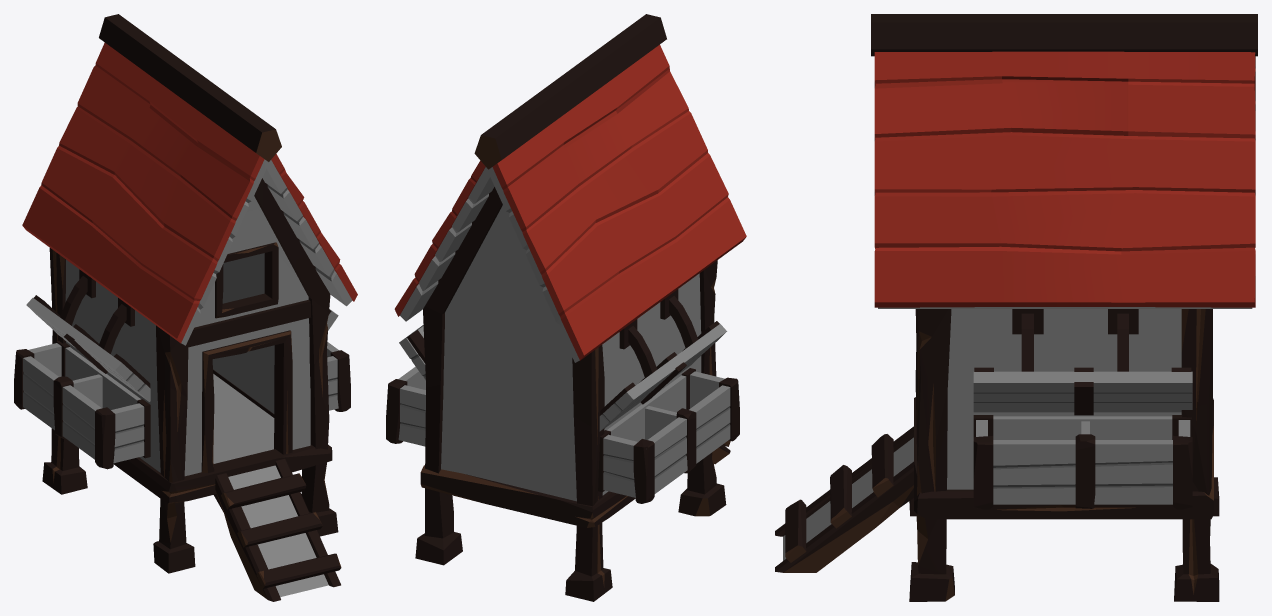
File: Henhouse.001.fbx
The picture shows the model from 3 angles, left to right: view 1: azimuth 30°, elevation 25°; view 2: azimuth 150°, elevation 25°; view 3: azimuth 270°, elevation 25°; orthographic projection. The views are drawn at different scales.
Parts seen in each view (by area): view 1: Henhouse.001; view 2: Henhouse.001; view 3: Henhouse.001.
Boxes of the visible parts, x1,y1,x2,y2 form: Henhouse.001: [14, 14, 357, 601]; Henhouse.001: [386, 14, 746, 601]; Henhouse.001: [775, 14, 1257, 601].
Bounding box in the file's own units: 58.06 × 97.2 × 79.7.
